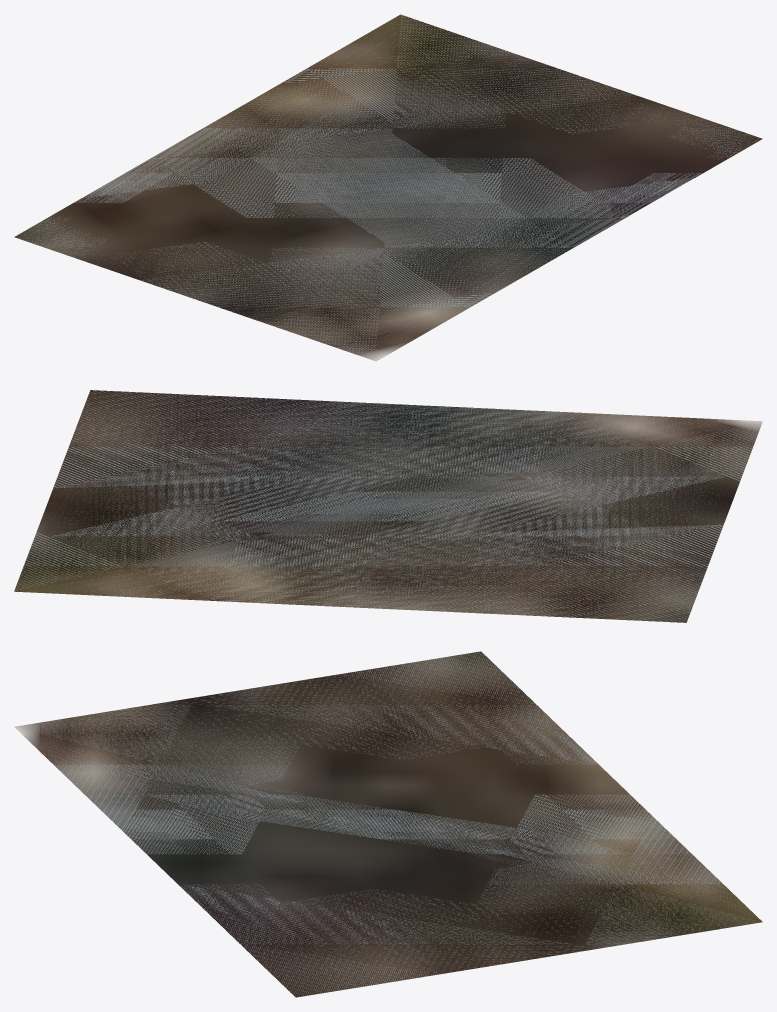
Rendered from 西庸城堡406.dae.
3 renders of one model, top to bottom at view 1: azimuth 30°, elevation 25°; view 2: azimuth 150°, elevation 25°; view 3: azimuth 270°, elevation 25°, orthographic. The views are drawn at different scales.
Parts seen in each view (by area): view 1: SketchUp; view 2: SketchUp; view 3: SketchUp.
Part boxes in pixels (x1,y1,x2,y2): SketchUp: (14, 14, 762, 361); SketchUp: (14, 390, 762, 622); SketchUp: (14, 651, 762, 997).
Bounding box in the file's own units: 48.44 × 44.28 × 0.
